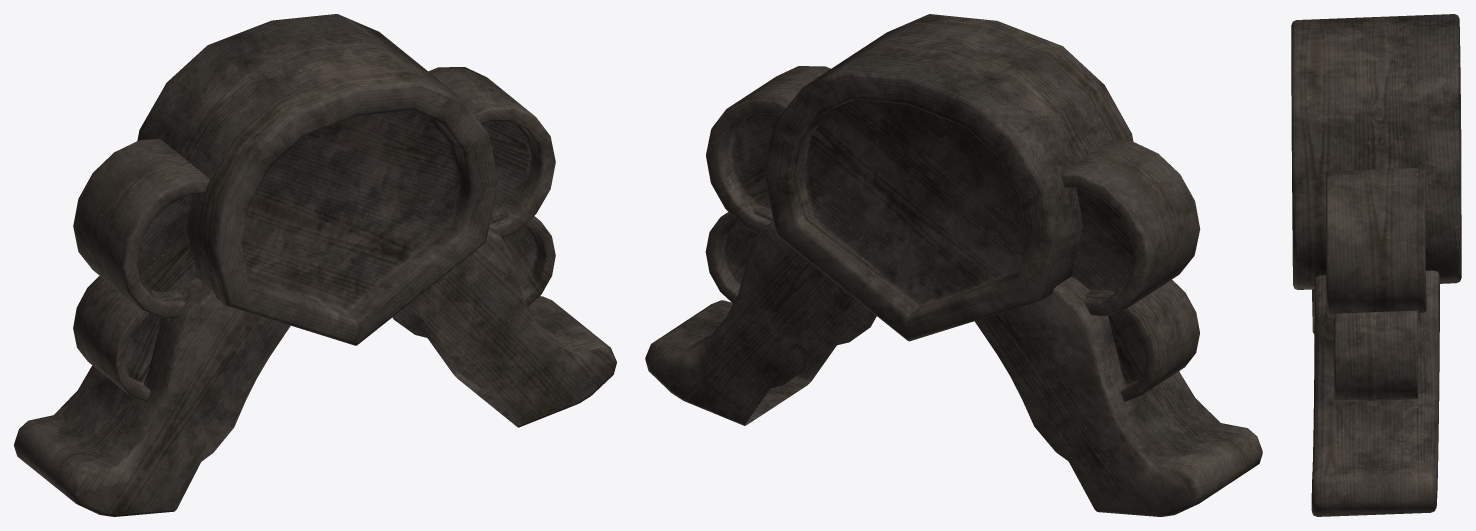
The model's file is ShrineModule_Roof-07.fbx.
3 renders of one model, left to right at view 1: azimuth 30°, elevation 25°; view 2: azimuth 150°, elevation 25°; view 3: azimuth 270°, elevation 25°, orthographic. The views are drawn at different scales.
Visible parts, largest first — view 1: ShrineModule_Roof-07; view 2: ShrineModule_Roof-07; view 3: ShrineModule_Roof-07.
Part boxes in pixels (bbox=[...]): ShrineModule_Roof-07: bbox=[14, 14, 616, 516]; ShrineModule_Roof-07: bbox=[645, 14, 1262, 516]; ShrineModule_Roof-07: bbox=[1291, 14, 1461, 516].
Bounding box in the file's own units: 1.18 × 0.8233 × 0.3338.
